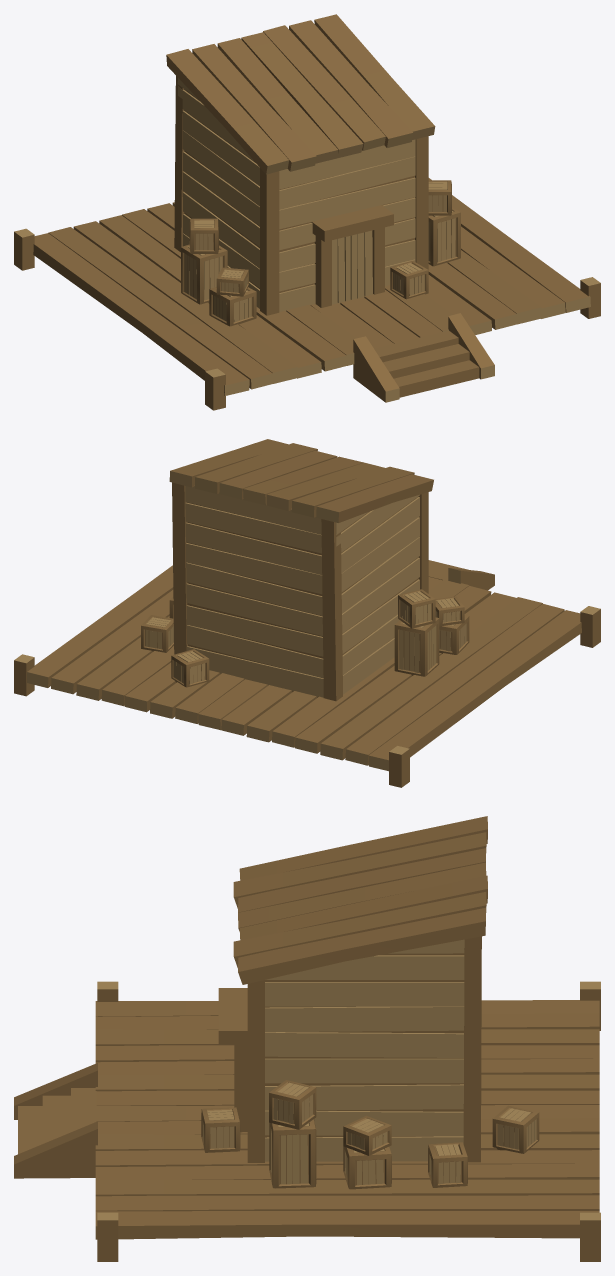
The model's file is Storage Hut.glb.
The picture shows the model from 3 angles, top to bottom: view 1: azimuth 30°, elevation 25°; view 2: azimuth 150°, elevation 25°; view 3: azimuth 270°, elevation 25°; orthographic projection. The views are drawn at different scales.
Parts seen in each view (by area): view 1: Storage Hut; view 2: Storage Hut; view 3: Storage Hut.
Part boxes in pixels (x1=…): Storage Hut: x1=14, y1=14, x2=600, y2=410; Storage Hut: x1=14, y1=439, x2=600, y2=787; Storage Hut: x1=14, y1=816, x2=600, y2=1261.
Bounding box in the file's own units: 1.41 × 0.7613 × 1.47.
